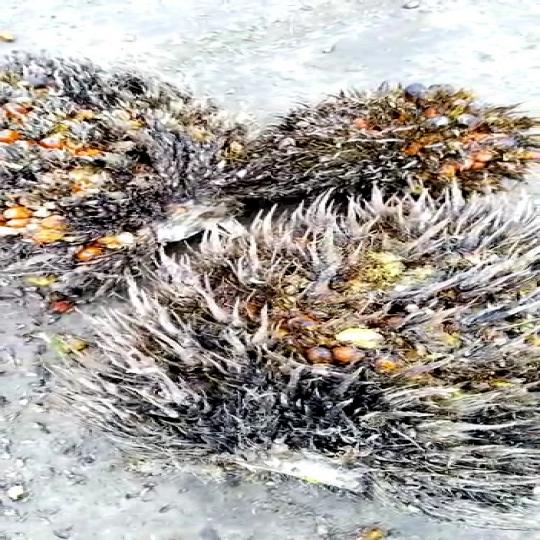terlalu masak: (73, 231, 540, 501), (0, 55, 263, 292), (270, 80, 538, 203)
